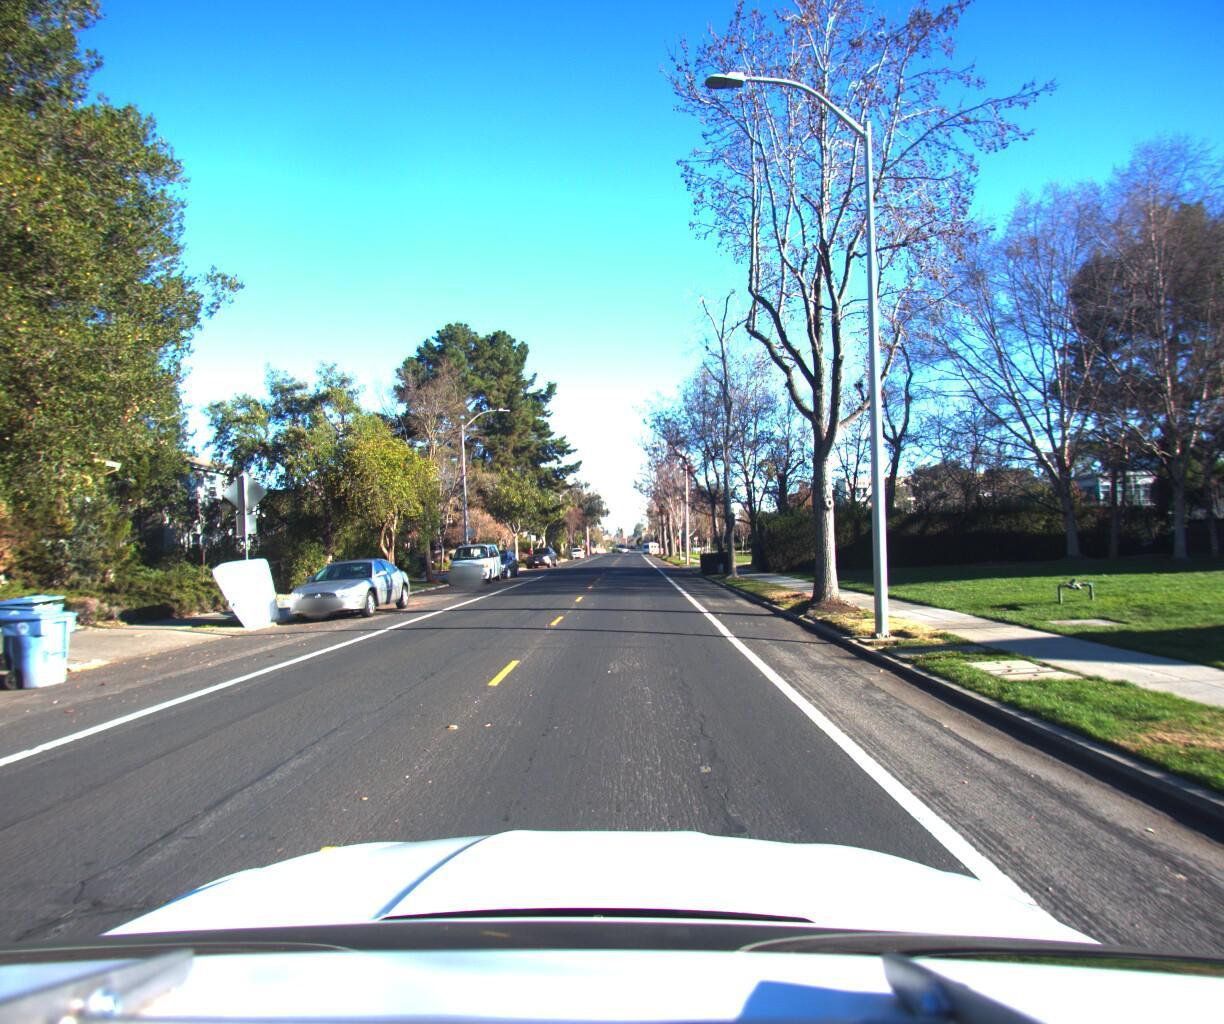car: (280, 555, 420, 624), (445, 538, 505, 585), (473, 545, 522, 580), (526, 543, 560, 565)
